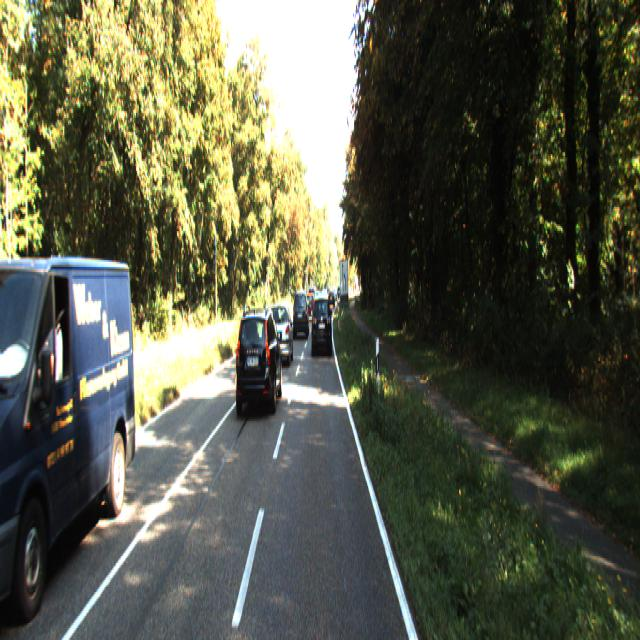Car: (0, 241, 142, 630), (235, 303, 282, 417), (269, 300, 293, 366), (311, 291, 331, 352), (292, 288, 308, 336)
